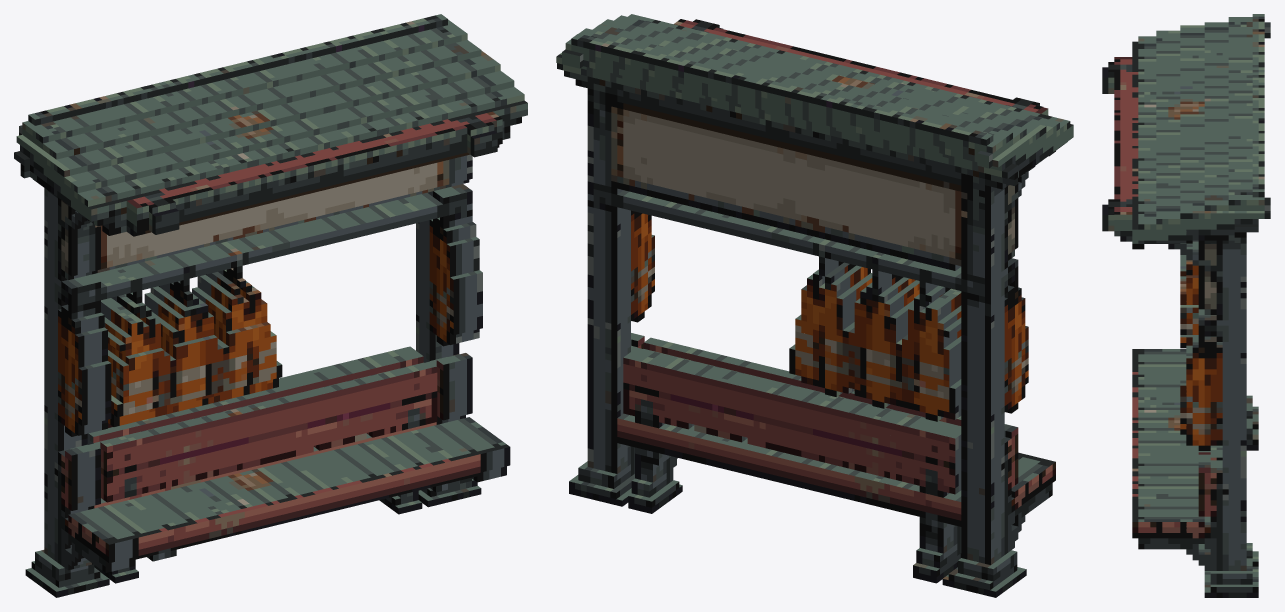
File: city_moto_stand.glb
3 views of the same model, side by side, from view 1: azimuth 30°, elevation 25°; view 2: azimuth 150°, elevation 25°; view 3: azimuth 270°, elevation 25° (orthographic). The views are drawn at different scales.
Visible parts, largest first — view 1: city_moto_stand; view 2: city_moto_stand; view 3: city_moto_stand.
Part boxes in pixels (bbox=[...]): city_moto_stand: bbox=[14, 14, 527, 597]; city_moto_stand: bbox=[556, 14, 1073, 597]; city_moto_stand: bbox=[1102, 14, 1270, 597].
Bounding box in the file's own units: 2.38 × 2.31 × 0.875.
